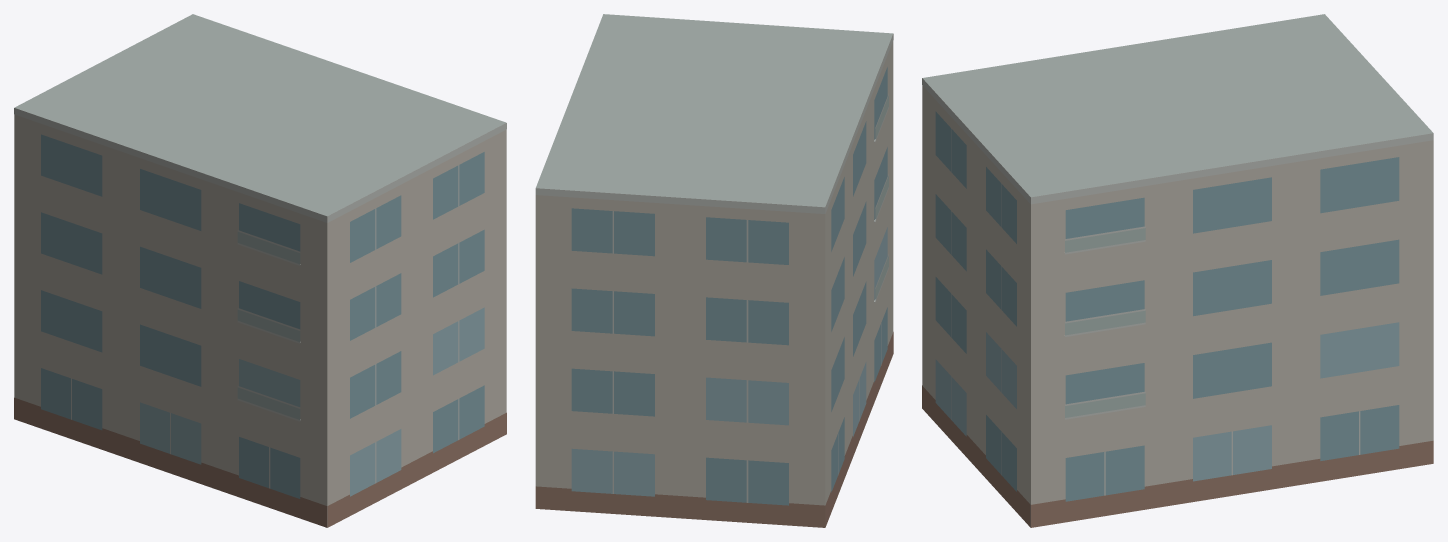
Rendered from survey-upis-32524078.glb.
The picture shows the model from 3 angles, left to right: view 1: azimuth 30°, elevation 25°; view 2: azimuth 150°, elevation 25°; view 3: azimuth 270°, elevation 25°; orthographic projection. The views are drawn at different scales.
Visible parts, largest first — view 1: survey-upis-32524078.tmp; view 2: survey-upis-32524078.tmp; view 3: survey-upis-32524078.tmp.
Boxes of the visible parts, bbox=[...] form: survey-upis-32524078.tmp: bbox=[14, 14, 506, 527]; survey-upis-32524078.tmp: bbox=[535, 14, 893, 527]; survey-upis-32524078.tmp: bbox=[922, 14, 1433, 527].
Bounding box in the file's own units: 13.7 × 11.5 × 16.14.
